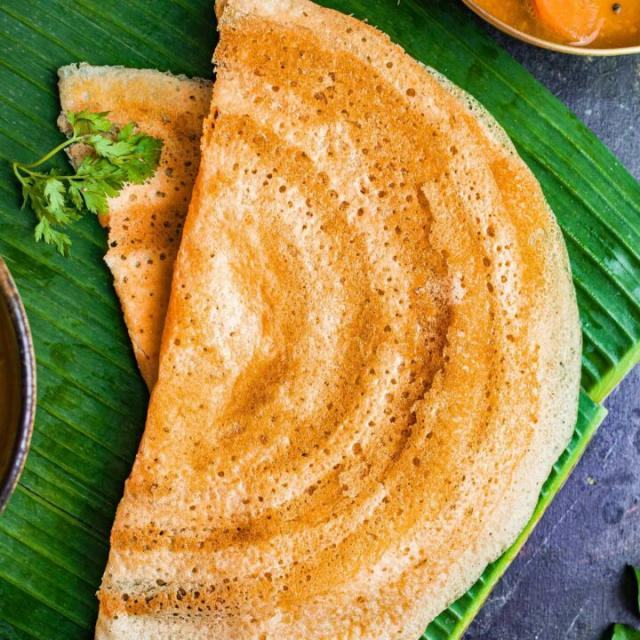DOSA: (56, 1, 583, 639)
